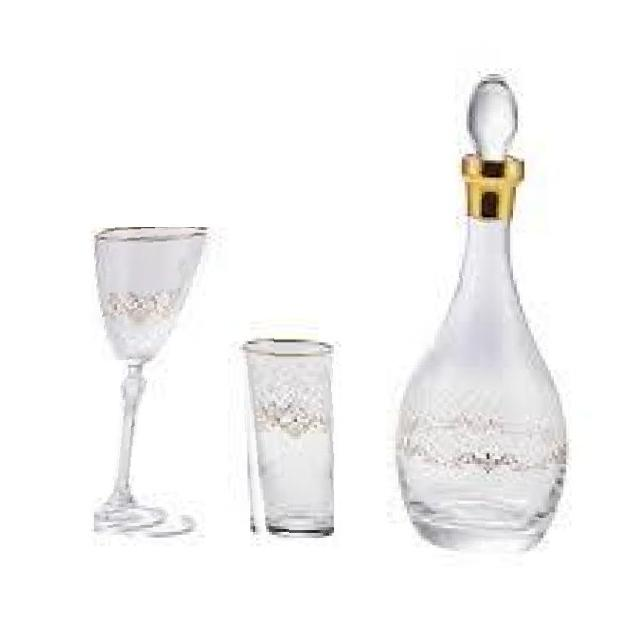Glass: (387, 72, 572, 554), (94, 228, 211, 540), (239, 335, 334, 538)
